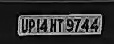1: (35, 19, 40, 34)
4: (90, 17, 100, 34), (39, 18, 49, 33), (81, 18, 90, 33)
7: (73, 17, 82, 33)
9: (66, 19, 74, 32)
H: (49, 17, 59, 34)
P: (28, 19, 36, 35)
T: (57, 18, 66, 32)
U: (20, 17, 29, 34)
